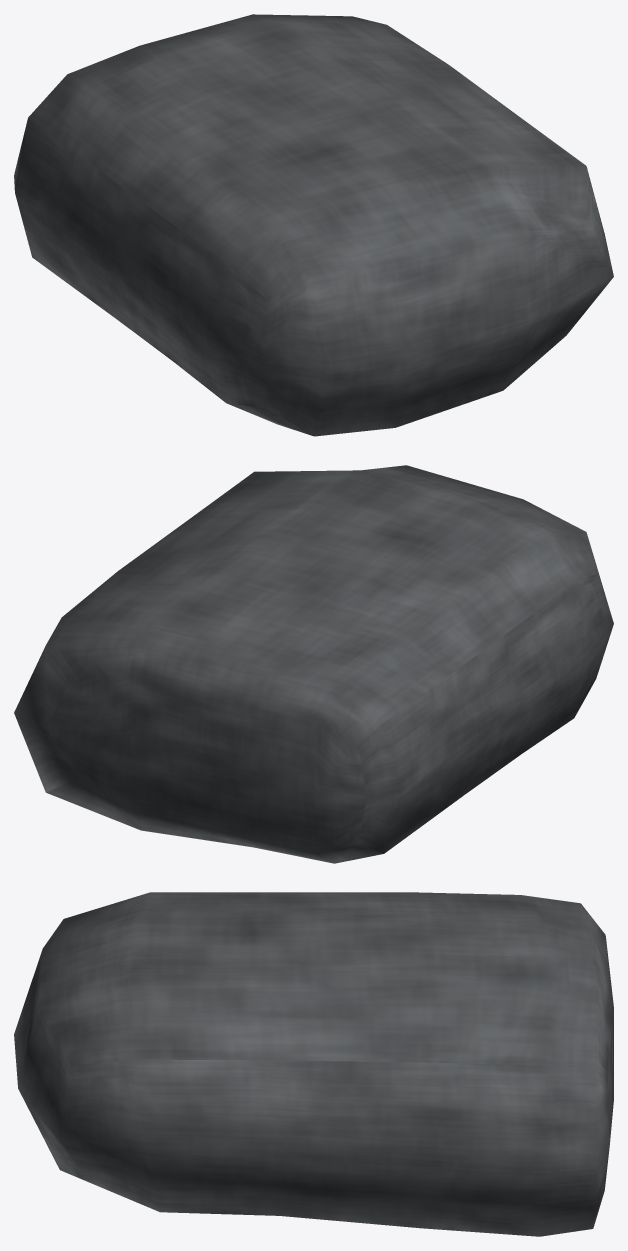
Rendered from Steen 6.fbx.
The picture shows the model from 3 angles, top to bottom: view 1: azimuth 30°, elevation 25°; view 2: azimuth 150°, elevation 25°; view 3: azimuth 270°, elevation 25°; orthographic projection. The views are drawn at different scales.
Visible parts, largest first — view 1: pCube7; view 2: pCube7; view 3: pCube7.
Boxes of the visible parts, bbox=[...] form: pCube7: bbox=[14, 14, 613, 436]; pCube7: bbox=[14, 465, 613, 863]; pCube7: bbox=[14, 892, 613, 1236].
Bounding box in the file's own units: 0.6453 × 0.3412 × 0.8272.
